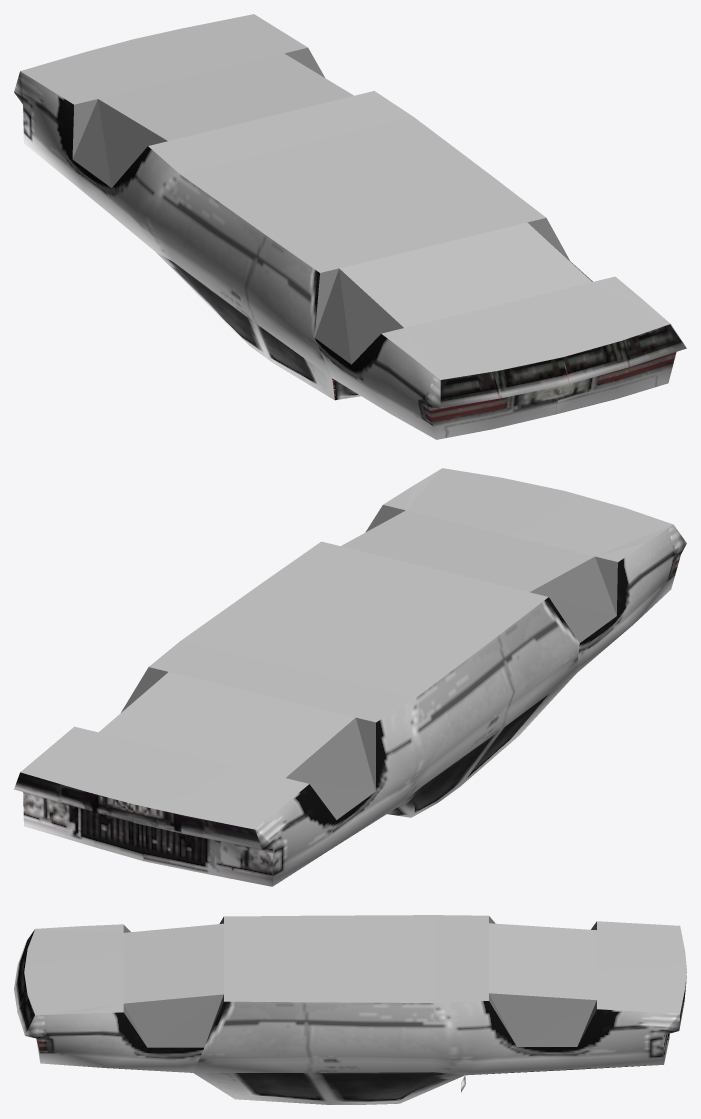
Rendered from VEGAS_model0_clean.obj.
3 views of the same model, one above another, from view 1: azimuth 30°, elevation 25°; view 2: azimuth 150°, elevation 25°; view 3: azimuth 270°, elevation 25° (orthographic). The views are drawn at different scales.
Visible parts, largest first — view 1: VEGAS_model0_clean_set4_id7_ft, VEGAS_model0_clean_set59_id14, VEGAS_model0_clean_flat, VEGAS_model0_clean_set59_id13, VEGAS_model0_clean_set59_id3, VEGAS_model0_clean_set59_id0, VEGAS_model0_clean_set59_id17, VEGAS_model0_clean_set59_id9; view 2: VEGAS_model0_clean_set4_id7_ft, VEGAS_model0_clean_set59_id14, VEGAS_model0_clean_set59_id13, VEGAS_model0_clean_flat, VEGAS_model0_clean_set59_id6, VEGAS_model0_clean_set59_id10, VEGAS_model0_clean_set59_id17, VEGAS_model0_clean_set59_id9; view 3: VEGAS_model0_clean_set4_id7_ft, VEGAS_model0_clean_set59_id14, VEGAS_model0_clean_set59_id13, VEGAS_model0_clean_flat, VEGAS_model0_clean_set59_id17, VEGAS_model0_clean_set59_id9, VEGAS_model0_clean_set59_id0, VEGAS_model0_clean_set59_id3.
Boxes of the visible parts, x1=… form: VEGAS_model0_clean_set4_id7_ft: x1=20, y1=14, x2=670, y2=379; VEGAS_model0_clean_set59_id14: x1=161, y1=174, x2=331, y2=377; VEGAS_model0_clean_flat: x1=72, y1=47, x2=592, y2=364; VEGAS_model0_clean_set59_id13: x1=14, y1=71, x2=179, y2=261; VEGAS_model0_clean_set59_id3: x1=429, y1=357, x2=569, y2=439; VEGAS_model0_clean_set59_id0: x1=555, y1=324, x2=686, y2=414; VEGAS_model0_clean_set59_id17: x1=315, y1=333, x2=440, y2=439; VEGAS_model0_clean_set59_id9: x1=156, y1=252, x2=334, y2=399; VEGAS_model0_clean_set4_id7_ft: x1=20, y1=468, x2=673, y2=829; VEGAS_model0_clean_set59_id14: x1=416, y1=597, x2=579, y2=785; VEGAS_model0_clean_set59_id13: x1=255, y1=698, x2=435, y2=886; VEGAS_model0_clean_flat: x1=121, y1=505, x2=617, y2=819; VEGAS_model0_clean_set59_id6: x1=132, y1=804, x2=273, y2=886; VEGAS_model0_clean_set59_id10: x1=14, y1=772, x2=143, y2=861; VEGAS_model0_clean_set59_id17: x1=576, y1=524, x2=686, y2=673; VEGAS_model0_clean_set59_id9: x1=399, y1=674, x2=575, y2=817; VEGAS_model0_clean_set4_id7_ft: x1=24, y1=915, x2=686, y2=1015; VEGAS_model0_clean_set59_id14: x1=193, y1=1001, x2=433, y2=1072; VEGAS_model0_clean_set59_id13: x1=83, y1=1001, x2=680, y2=1075; VEGAS_model0_clean_flat: x1=123, y1=916, x2=596, y2=1047; VEGAS_model0_clean_set59_id17: x1=25, y1=1012, x2=203, y2=1072; VEGAS_model0_clean_set59_id9: x1=194, y1=1072, x2=464, y2=1104; VEGAS_model0_clean_set59_id0: x1=14, y1=972, x2=40, y2=1061; VEGAS_model0_clean_set59_id3: x1=14, y1=929, x2=34, y2=988.
Bounding box in the file's own units: 290 × 147 × 792.
14 materials, 12 textured.
